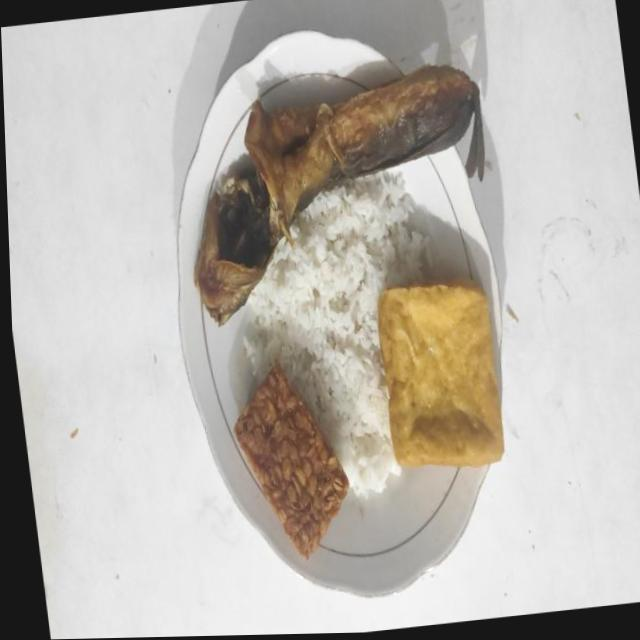nasi_putih: (243, 171, 430, 498)
tahu_goreng: (378, 280, 503, 467)
tempe_goreng: (234, 361, 348, 558)
